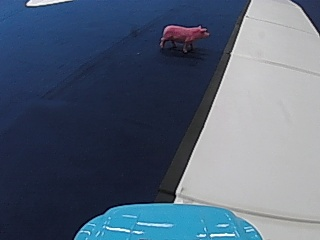pig: (157, 20, 209, 52)
